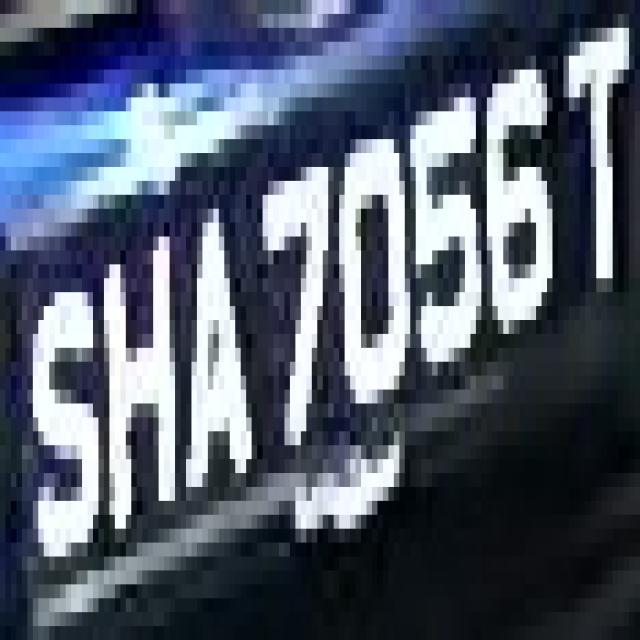0: (328, 98, 421, 432)
5: (399, 42, 487, 376)
6: (470, 56, 558, 403)
7: (257, 153, 350, 501)
A: (170, 194, 252, 528)
H: (98, 194, 192, 528)
S: (28, 237, 110, 598)
T: (558, 28, 629, 362)
